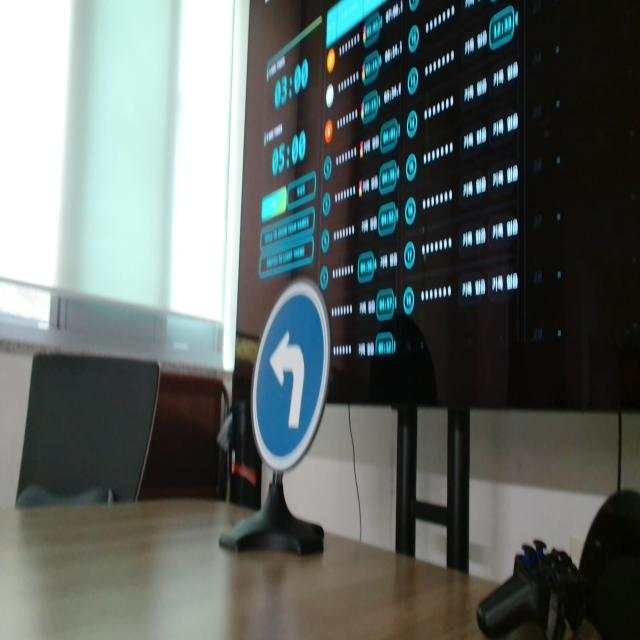left_direction: (249, 280, 333, 473)
